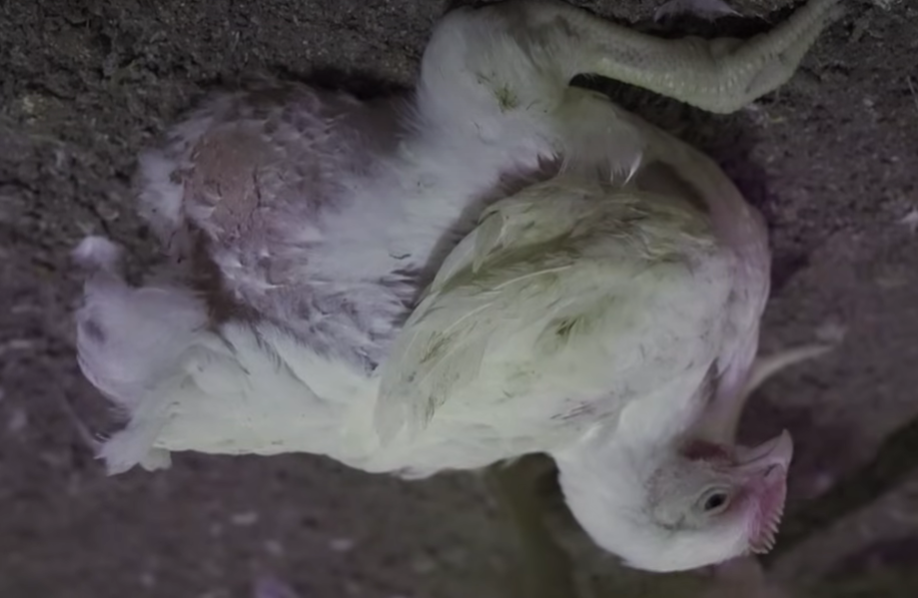Unhealthy: (55, 12, 823, 564)
